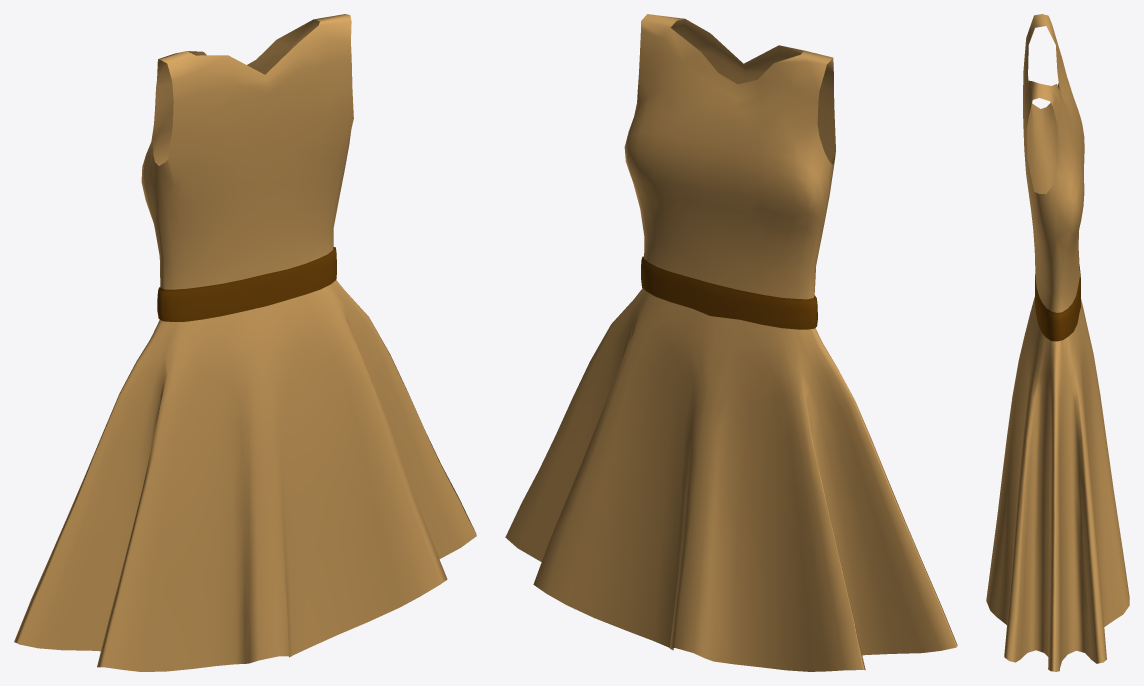
Rendered from Dress06.fbx.
3 renders of one model, left to right at view 1: azimuth 30°, elevation 25°; view 2: azimuth 150°, elevation 25°; view 3: azimuth 270°, elevation 25°, orthographic. The views are drawn at different scales.
Parts seen in each view (by area): view 1: Dress06; view 2: Dress06; view 3: Dress06.
Boxes of the visible parts, <box> form: Dress06: <box>14,14,476,671</box>; Dress06: <box>505,14,957,671</box>; Dress06: <box>986,14,1129,671</box>.
Bounding box in the file's own units: 75.43 × 95.57 × 22.14.
